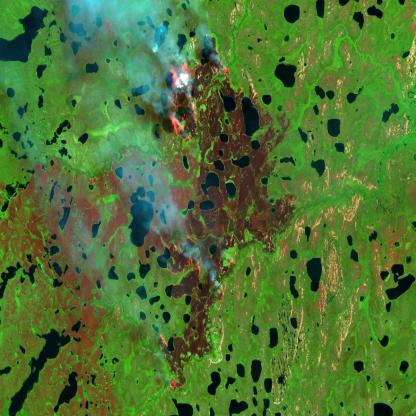fire: (147, 223, 242, 401), (160, 26, 237, 152)
